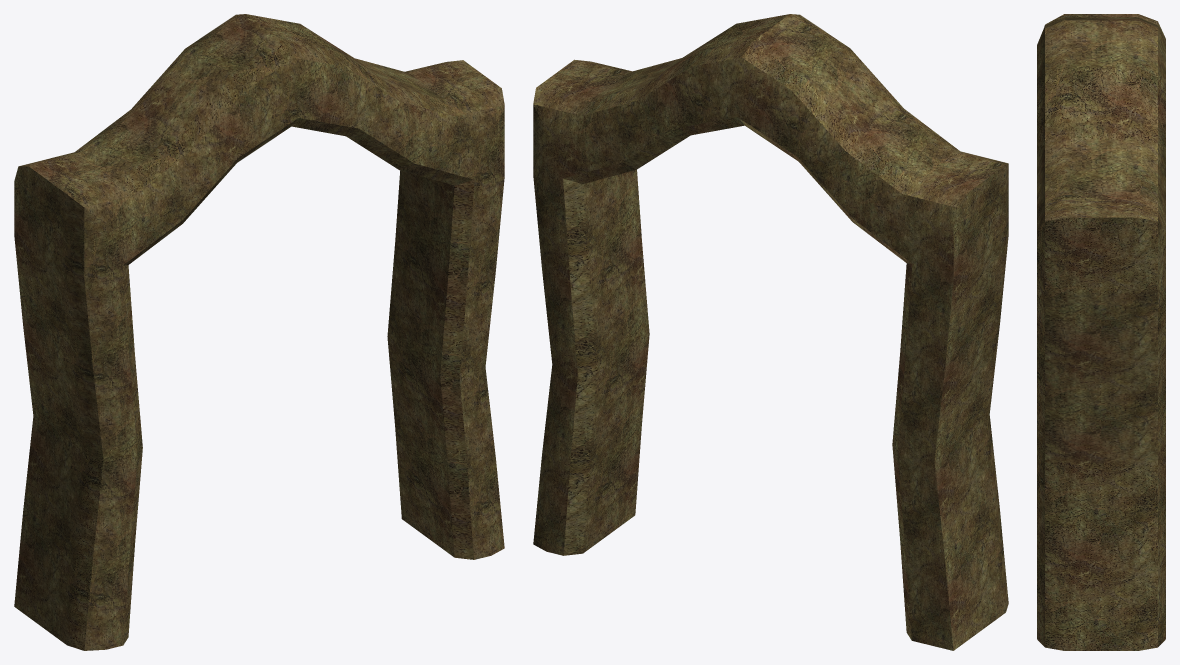
File: Portal.fbx
3 views of the same model, side by side, from view 1: azimuth 30°, elevation 25°; view 2: azimuth 150°, elevation 25°; view 3: azimuth 270°, elevation 25° (orthographic). The views are drawn at different scales.
Parts seen in each view (by area): view 1: Portal; view 2: Portal; view 3: Portal.
Boxes of the visible parts, left/top/right/bottom form: Portal: left=14, top=14, right=504, bottom=650; Portal: left=533, top=14, right=1008, bottom=650; Portal: left=1037, top=14, right=1165, bottom=650.
Bounding box in the file's own units: 95.45 × 115 × 25.49.
1 material, 1 textured.
